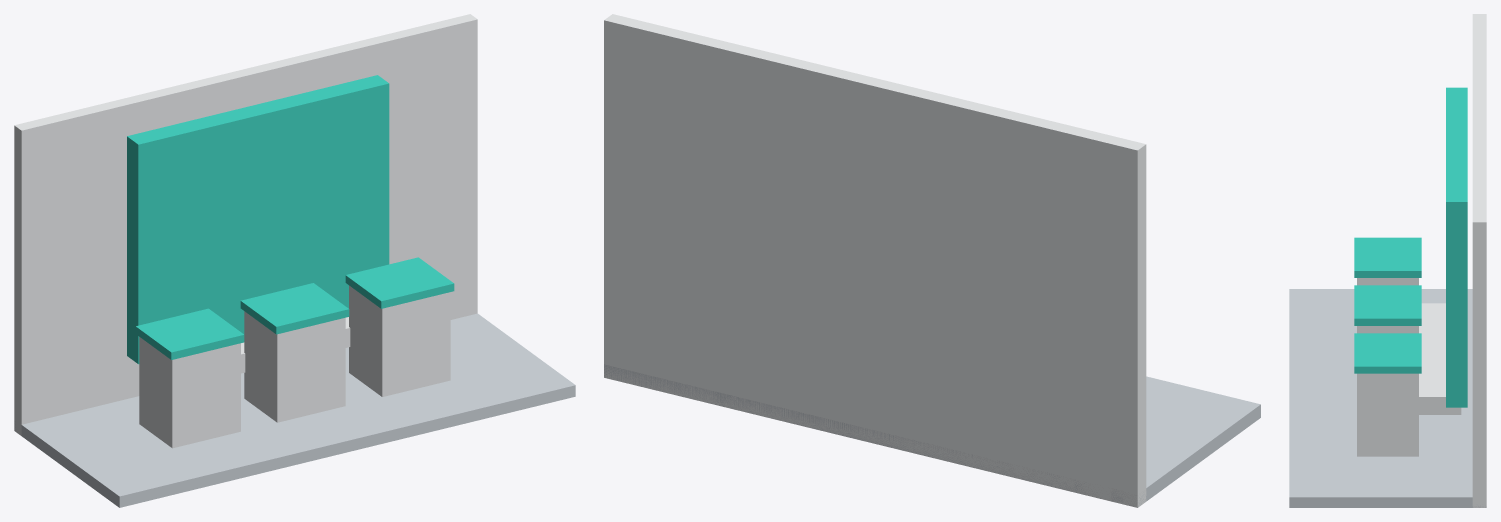
The picture shows the model from 3 angles, left to right: view 1: azimuth 30°, elevation 25°; view 2: azimuth 150°, elevation 25°; view 3: azimuth 270°, elevation 25°; orthographic projection. The views are drawn at different scales.
Parts seen in each view (by area): view 1: Exhibition Booth Concept; view 2: Exhibition Booth Concept; view 3: Exhibition Booth Concept.
Boxes of the visible parts, bbox=[...] form: Exhibition Booth Concept: bbox=[14, 14, 575, 507]; Exhibition Booth Concept: bbox=[604, 14, 1260, 507]; Exhibition Booth Concept: bbox=[1289, 14, 1486, 507].
Bounding box in the file's own units: 5 × 3.2 × 2.
